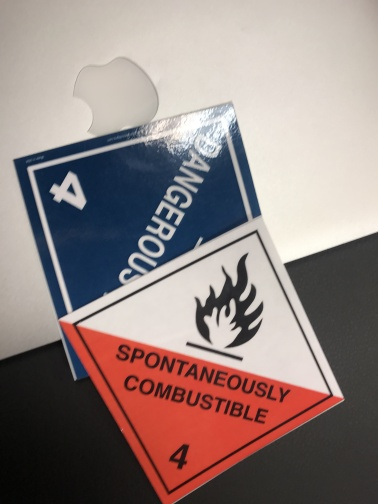DangerousWhenWet: (13, 102, 263, 380)
SpontaneouslyCombustible: (57, 215, 345, 502)
